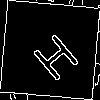H: (25, 25, 82, 84)
